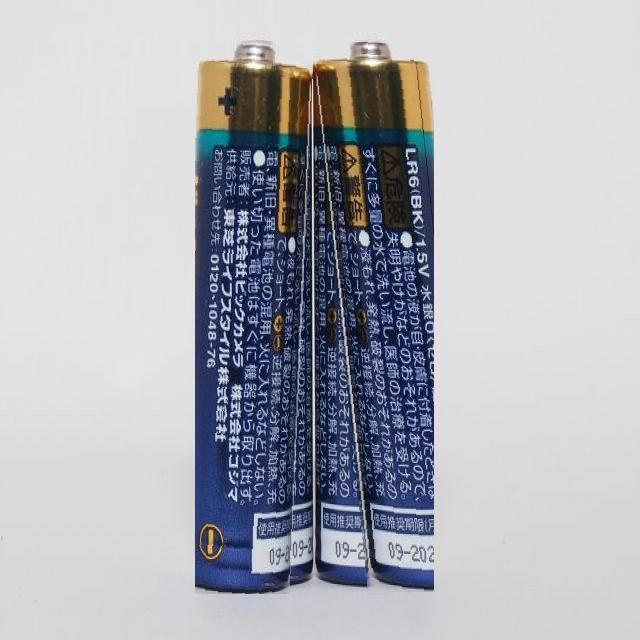battery: (310, 32, 434, 592), (195, 37, 314, 594)
